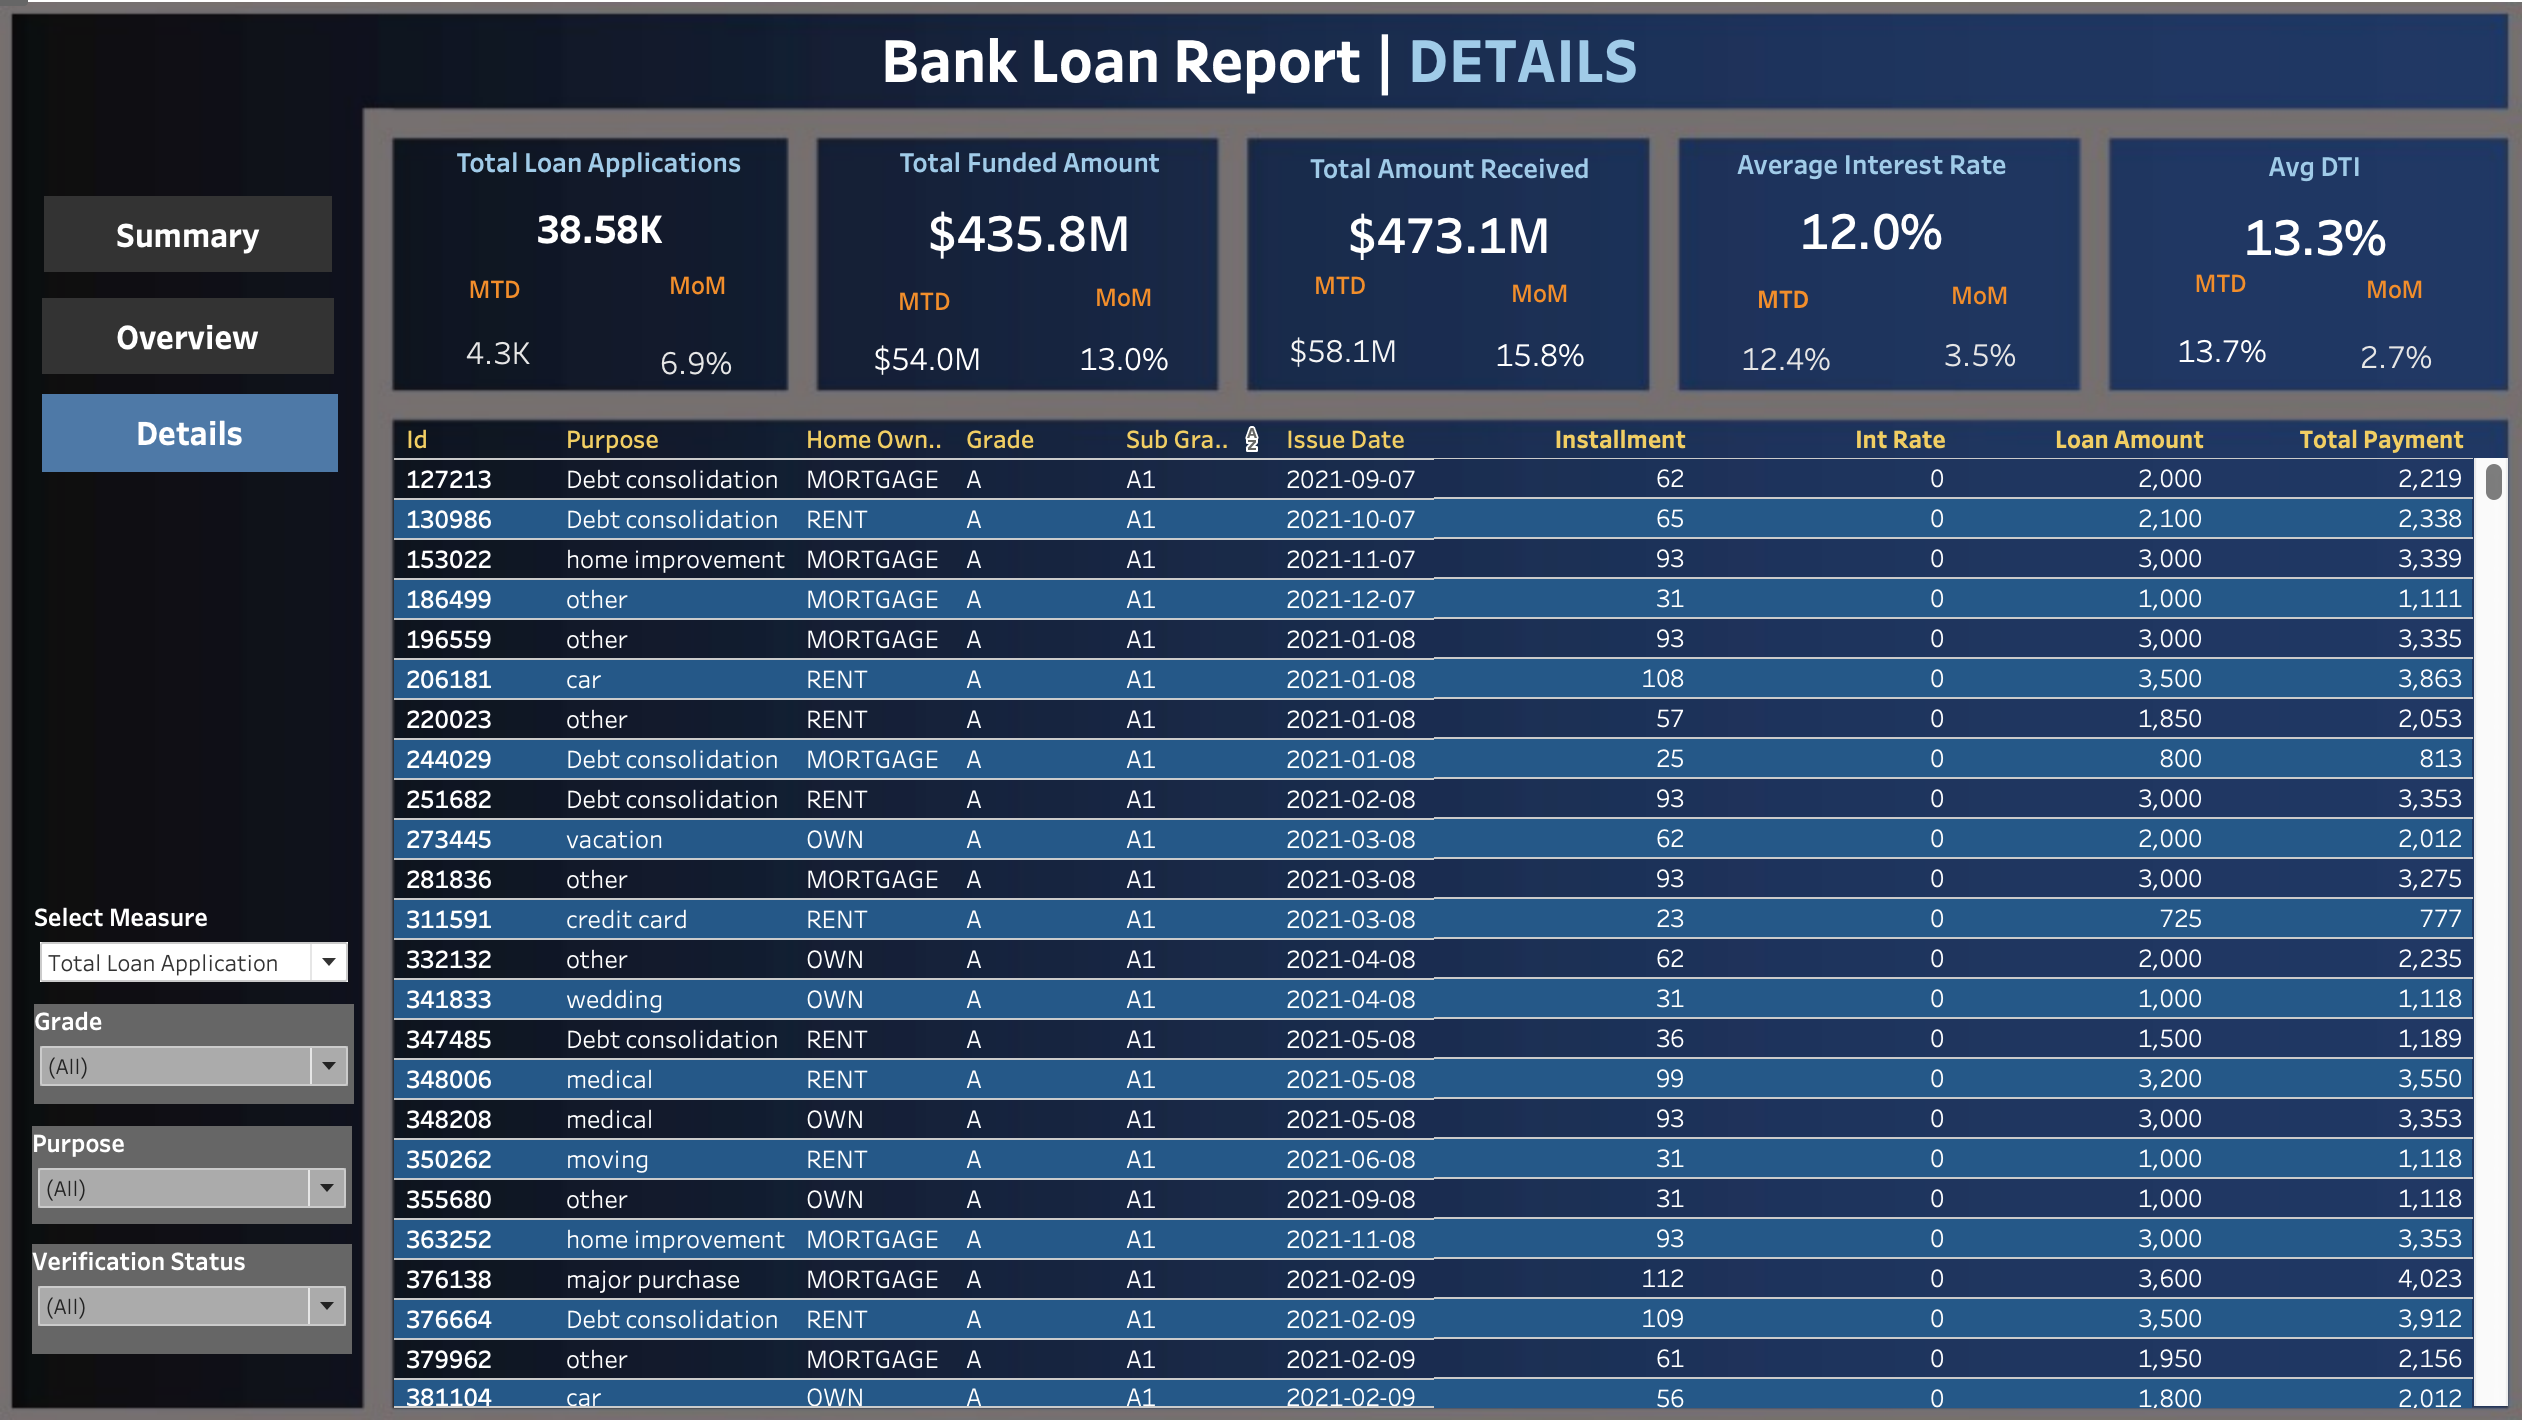

Layout of this report page (visuals, bound fields, positions):
{"tool":"tableau","page":{"name":"TAB DETAIL","canvas":[1000,1000],"units":"permille","ordinal":2},"visuals":[{"type":"image","param":"/Users/danhtungcao/Desktop/Tableau Porfolio/bankLoanProject/Tableau Background 3","box":[6.2,11.2,987.5,977.5]},{"type":"text","box":[350.2,67.3,470,51.1]},{"type":"worksheet","title":"Total Loan Applications","mark":"Automatic","box":[167.3,140.9,150.2,72.3]},{"type":"worksheet","title":"Total Funded Amount","mark":"Automatic","box":[333.1,140.9,154.1,77.3]},{"type":"worksheet","title":"Average Interest Rate","mark":"Automatic","box":[677.8,142.1,119.8,73.6]},{"type":"worksheet","title":"Avg DTI","mark":"Automatic","box":[834.2,143.4,151.8,77.3]},{"type":"worksheet","title":"Total Amount Received","mark":"Automatic","box":[498.1,144.6,151,73.6]},{"type":"dashboard-object","box":[26.5,178.3,112.1,47.4]},{"type":"text","box":[242,214.5,77.8,37.4]},{"type":"worksheet","title":"MTD Avg DTI","mark":"Automatic","box":[827.2,217,92.6,73.6]},{"type":"text","box":[176.7,218.2,50.6,34.9]},{"type":"worksheet","title":"MTD Total Amount Received","mark":"Automatic","box":[494.9,218.2,73.9,71.1]},{"type":"worksheet","title":"MoM Avg DTI","mark":"Automatic","box":[896.5,220.7,89.5,73.6]},{"type":"worksheet","title":"MoM Total Amount Received","mark":"Automatic","box":[563.4,223.2,90.3,67.3]},{"type":"worksheet","title":"MoM Avg Int Rate","mark":"Automatic","box":[745.5,224.4,68.5,64.8]},{"type":"worksheet","title":"MoM Total Funded Amount","mark":"Automatic","box":[410.9,225.7,71.6,67.3]},{"type":"worksheet","title":"MTD Avg Int Rate","mark":"Automatic","box":[663,226.9,82.5,64.8]},{"type":"worksheet","title":"MTD Total Funded Amount","mark":"Automatic","box":[331.5,228.2,77,62.3]},{"type":"dashboard-object","box":[25.7,241.9,113.6,47.4]},{"type":"worksheet","title":"MTD Total Applications","mark":"Automatic","box":[156.4,249.4,93.4,52.4]},{"type":"worksheet","title":"MoM Loan Applications","mark":"Automatic","box":[245.1,261.9,70,38.6]},{"type":"dashboard-object","box":[25.7,301.8,115.2,48.6]},{"type":"worksheet","title":"Detail","mark":"Automatic","rows":["id","purpose","home_ownership","grade","sub_grade","issue_date"],"box":[162.7,316.7,822.6,617.2]},{"type":"parameter","param":"[Parameters].[Parameter 1]","box":[22.6,617.2,124.5,54.9]},{"type":"filter","title":"Average Interest Rate","param":"[federated.015kj6r0c6jg371g86a5t0doffs4].[none:grade:nk]","box":[22.6,682,124.5,62.3]},{"type":"filter","title":"Average Interest Rate","param":"[federated.015kj6r0c6jg371g86a5t0doffs4].[none:purpose:nk]","box":[21.8,758.1,124.5,61.1]},{"type":"filter","title":"Average Interest Rate","param":"[federated.015kj6r0c6jg371g86a5t0doffs4].[none:verification_status:nk]","box":[21.8,831.7,124.5,68.6]}]}

Visuals, with their boxes on the dashboard's canvas, which has no fixed pixel size, in thousandths of its width and height (x1, y1, x2, y2). These are canvas units, not pixel positions in the 2526x1422 screenshot, which may show the page scaled, cropped or inside an application window:
image: <region>6, 11, 994, 989</region>
text: <region>350, 67, 820, 118</region>
"Total Loan Applications" worksheet: <region>167, 141, 318, 213</region>
"Total Funded Amount" worksheet: <region>333, 141, 487, 218</region>
"Average Interest Rate" worksheet: <region>678, 142, 798, 216</region>
"Avg DTI" worksheet: <region>834, 143, 986, 221</region>
"Total Amount Received" worksheet: <region>498, 145, 649, 218</region>
dashboard-object: <region>26, 178, 139, 226</region>
text: <region>242, 214, 320, 252</region>
"MTD Avg DTI" worksheet: <region>827, 217, 920, 291</region>
text: <region>177, 218, 227, 253</region>
"MTD Total Amount Received" worksheet: <region>495, 218, 569, 289</region>
"MoM Avg DTI" worksheet: <region>896, 221, 986, 294</region>
"MoM Total Amount Received" worksheet: <region>563, 223, 654, 290</region>
"MoM Avg Int Rate" worksheet: <region>746, 224, 814, 289</region>
"MoM Total Funded Amount" worksheet: <region>411, 226, 482, 293</region>
"MTD Avg Int Rate" worksheet: <region>663, 227, 746, 292</region>
"MTD Total Funded Amount" worksheet: <region>332, 228, 408, 290</region>
dashboard-object: <region>26, 242, 139, 289</region>
"MTD Total Applications" worksheet: <region>156, 249, 250, 302</region>
"MoM Loan Applications" worksheet: <region>245, 262, 315, 300</region>
dashboard-object: <region>26, 302, 141, 350</region>
"Detail" worksheet: <region>163, 317, 985, 934</region>
parameter: <region>23, 617, 147, 672</region>
"Average Interest Rate" filter: <region>23, 682, 147, 744</region>
"Average Interest Rate" filter: <region>22, 758, 146, 819</region>
"Average Interest Rate" filter: <region>22, 832, 146, 900</region>
